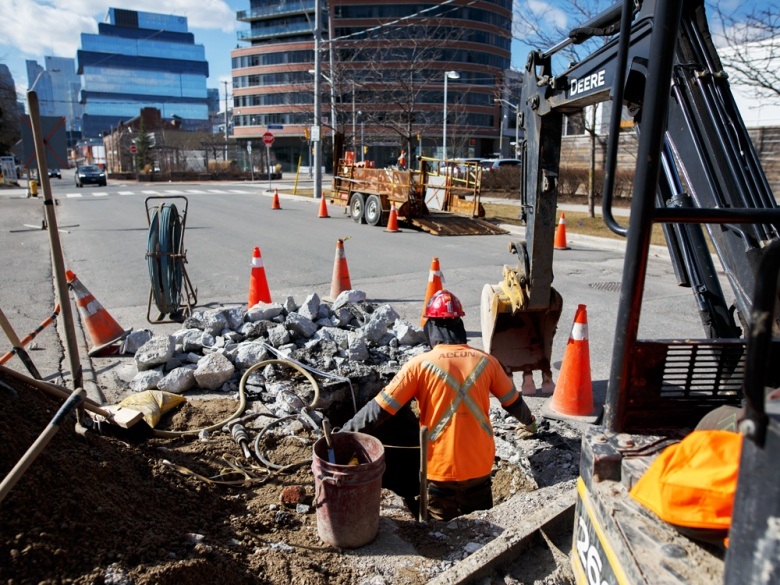red: (425, 288, 465, 335)
